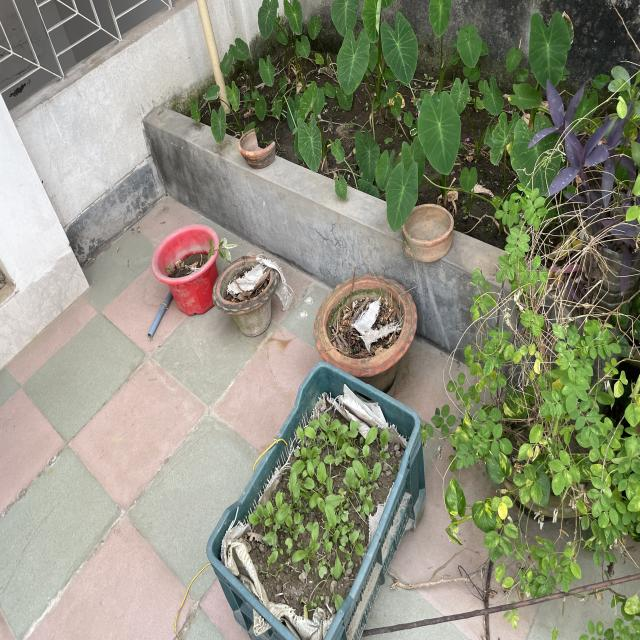Breeding Place: (209, 366, 425, 640), (315, 277, 418, 378), (159, 224, 218, 318), (222, 256, 275, 338)
